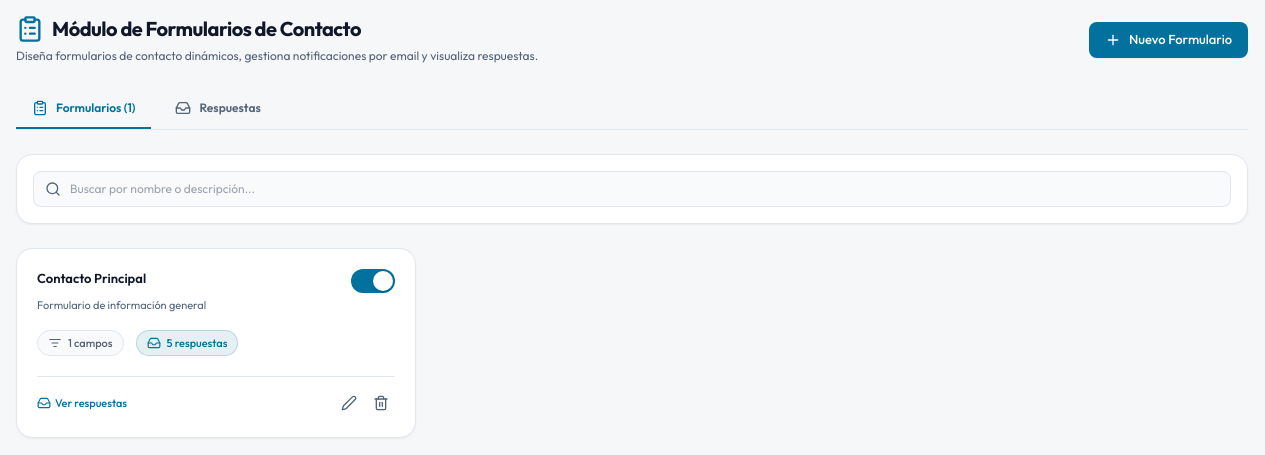
CmsFormsManagement Component › renders form cards and toggles to Respuestas tab when forms exist
Expected: the heading "Contacto Principal" is shown, [37, 269, 146, 288]
Expected: the text "5 respuestas" is shown, [136, 330, 238, 356]
# Click "Respuestas" tab
Click the button "Respuestas" at (218, 109), box [160, 89, 277, 129]
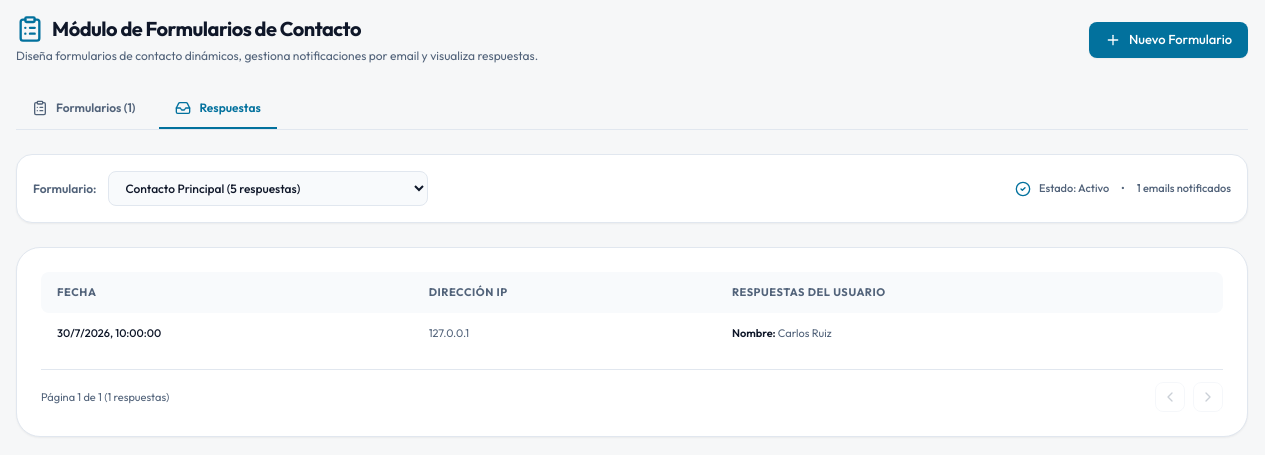
Now the text "Carlos Ruiz" is shown, box [778, 326, 832, 340]
